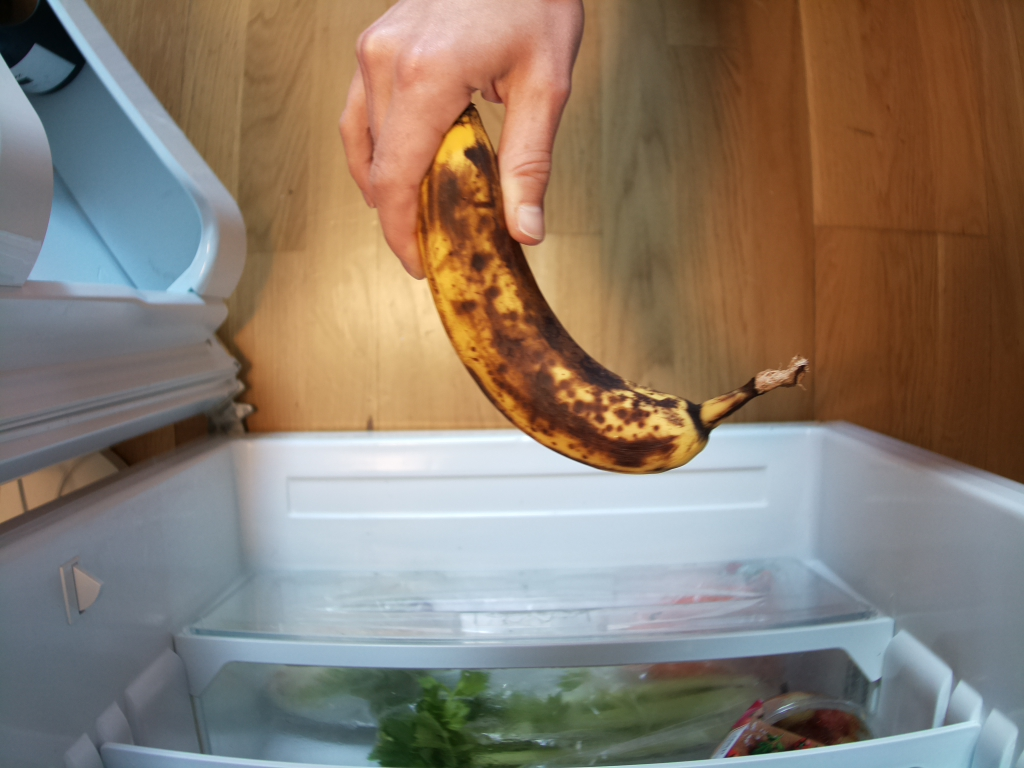banana-overripe: (417, 103, 803, 473)
